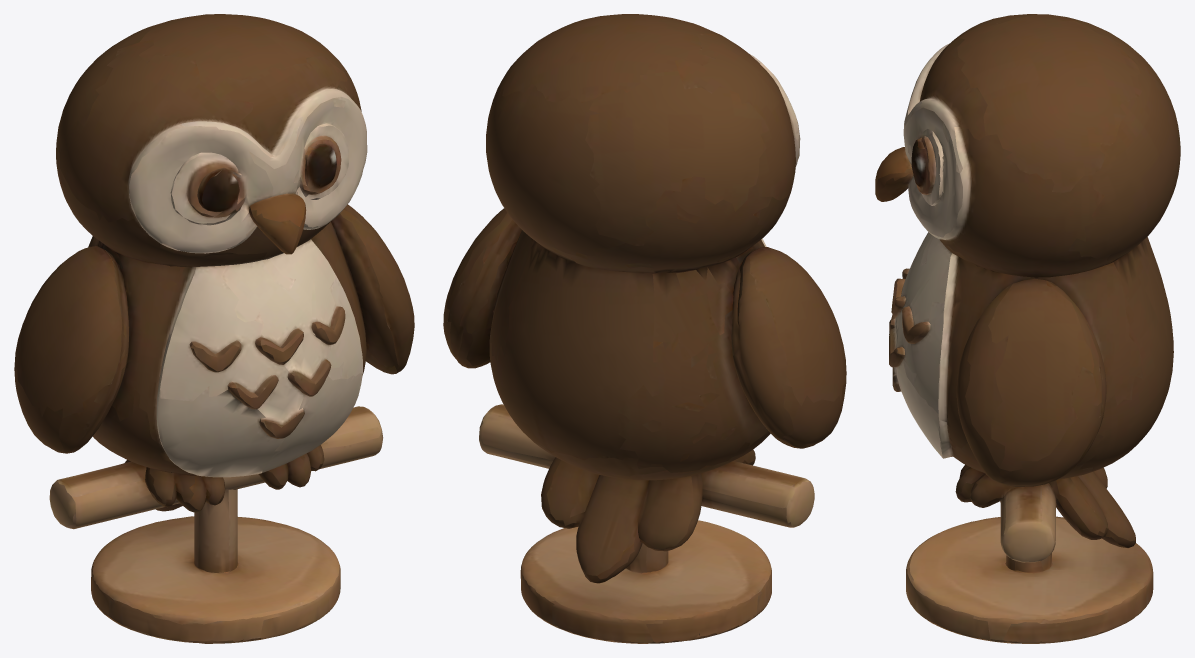
File: x-owl.glb
3 renders of one model, left to right at view 1: azimuth 30°, elevation 25°; view 2: azimuth 150°, elevation 25°; view 3: azimuth 270°, elevation 25°, orthographic.
Parts seen in each view (by area): view 1: geometry_0; view 2: geometry_0; view 3: geometry_0.
Boxes of the visible parts, x1,y1,x2,y2 form: geometry_0: (14, 14, 414, 643); geometry_0: (443, 14, 846, 643); geometry_0: (875, 14, 1180, 643).
Bounding box in the file's own units: 0.1731 × 0.25 × 0.124.
Materials: 1 (1 with a texture image).
